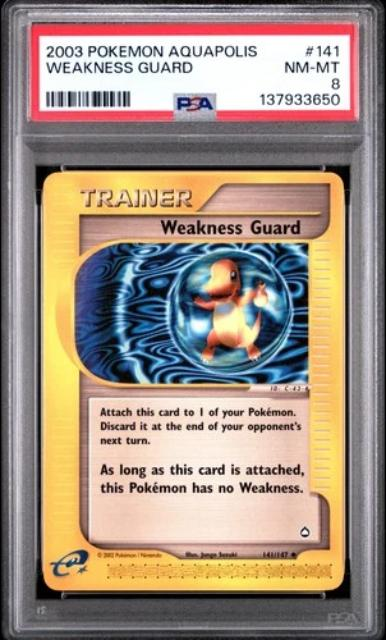Card: (36, 166, 352, 596)
Name: (150, 210, 312, 239)
